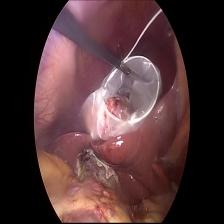Grasper: (115, 59, 131, 76)
Specimen Bag: (78, 57, 161, 140)
